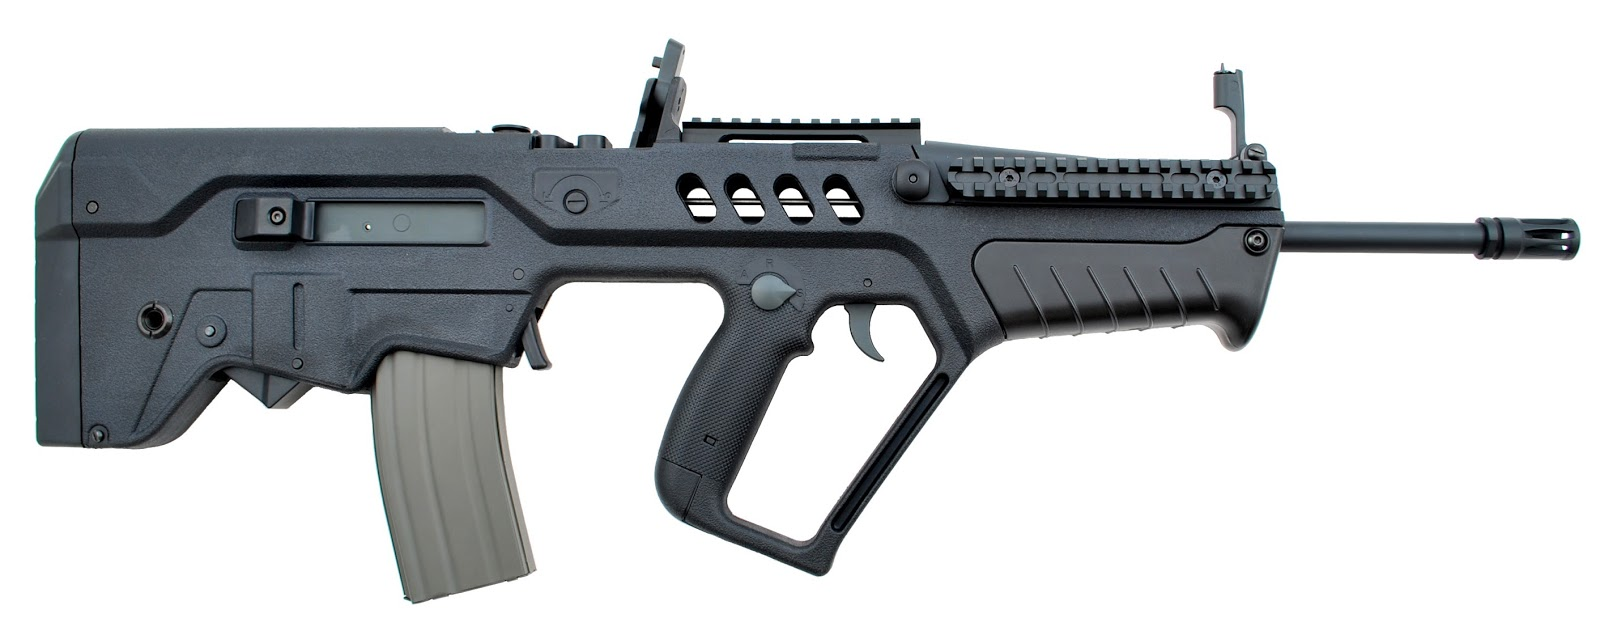gun: (23, 20, 1588, 611)
